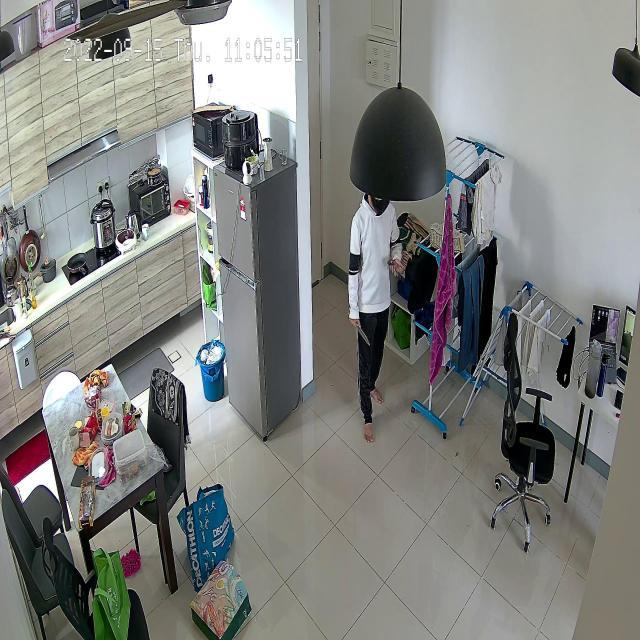Knife: (345, 315, 385, 357)
